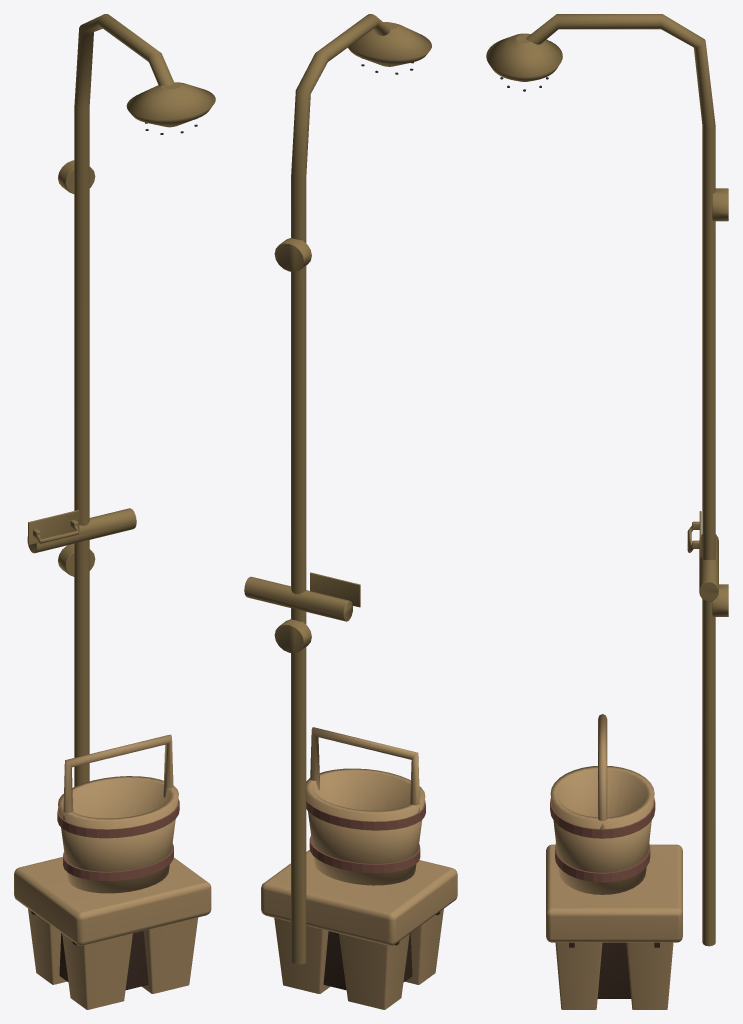
The model's file is kominka-shower-01.glb.
The picture shows the model from 3 angles, left to right: view 1: azimuth 30°, elevation 25°; view 2: azimuth 150°, elevation 25°; view 3: azimuth 270°, elevation 25°; orthographic projection. The views are drawn at different scales.
Parts seen in each view (by area): view 1: kominka-shower-01; view 2: kominka-shower-01; view 3: kominka-shower-01.
Boxes of the visible parts, <box> form: kominka-shower-01: <box>14,14,215,1009</box>; kominka-shower-01: <box>244,14,457,1009</box>; kominka-shower-01: <box>486,14,728,1009</box>.
Size of the model in its own units: 0.3 by 2 by 0.45.
